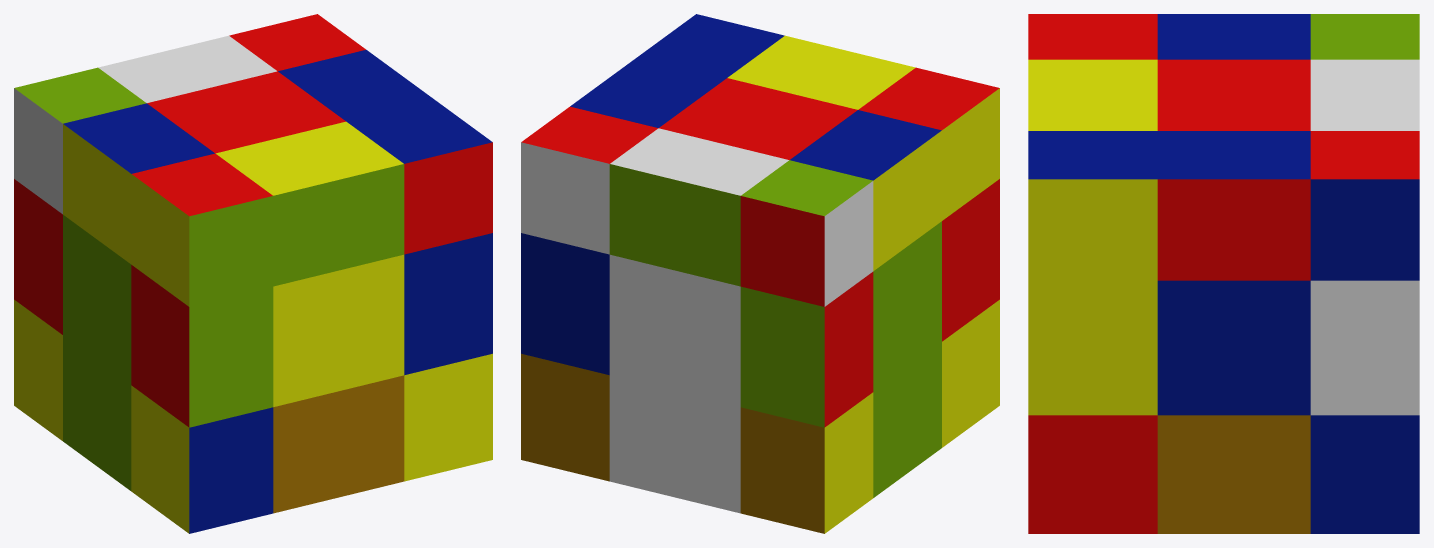
The model's file is Rubic.fbx.
3 renders of one model, left to right at view 1: azimuth 30°, elevation 25°; view 2: azimuth 150°, elevation 25°; view 3: azimuth 270°, elevation 25°, orthographic. The views are drawn at different scales.
Visible parts, largest first — view 1: pCube1; view 2: pCube1; view 3: pCube1.
Boxes of the visible parts, x1,y1,x2,y2 form: pCube1: [14, 14, 492, 533]; pCube1: [521, 14, 999, 533]; pCube1: [1028, 14, 1419, 533].
Size of the model in its own units: 1 by 1 by 1.
